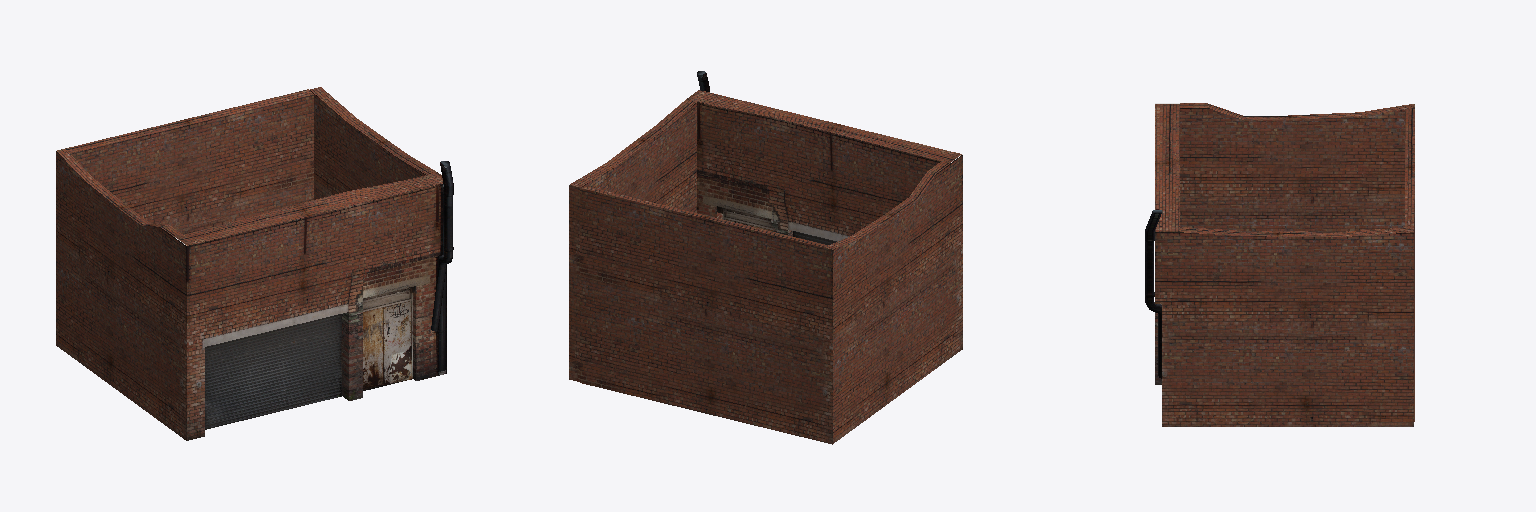
3 views of the same model, side by side, from view 1: azimuth 30°, elevation 25°; view 2: azimuth 150°, elevation 25°; view 3: azimuth 270°, elevation 25° (orthographic).
Visible parts, largest first — view 1: worn_torn13; view 2: worn_torn13; view 3: worn_torn13.
Part boxes in pixels (left/top/right/bottom): worn_torn13: left=56, top=87, right=453, bottom=440; worn_torn13: left=569, top=71, right=962, bottom=444; worn_torn13: left=1145, top=103, right=1414, bottom=426.
Size of the model in its own units: 311 by 240 by 276.
1 materials, 1 textured.